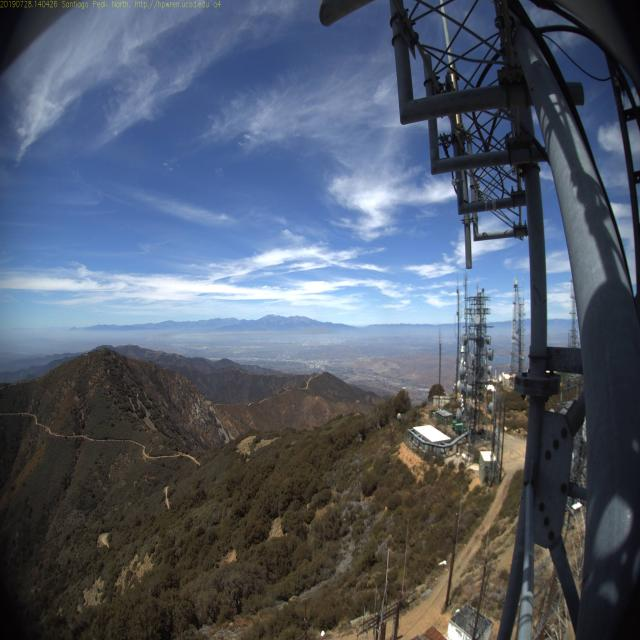smoke: (144, 329, 160, 347)
